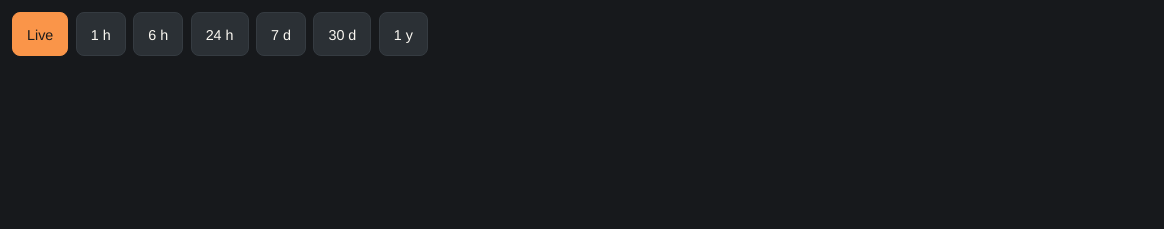
Test case: PowerHistorySection › says so when the range has no recorded history yet
Step 1. Click the button "1 h" → (101, 34), box [76, 12, 126, 56]
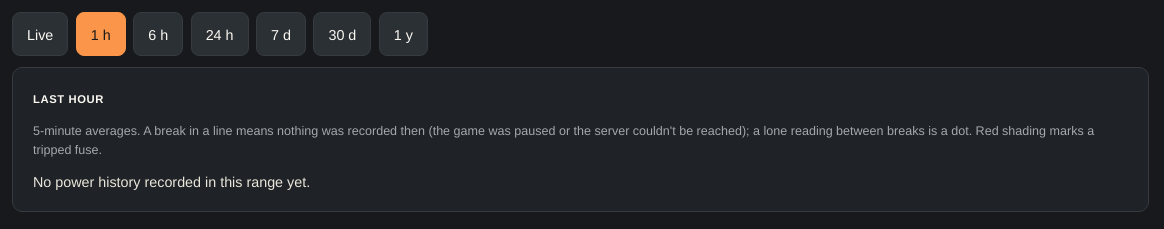
expect the text "No power history recorded in this range yet." is shown: met, box [33, 172, 310, 190]
